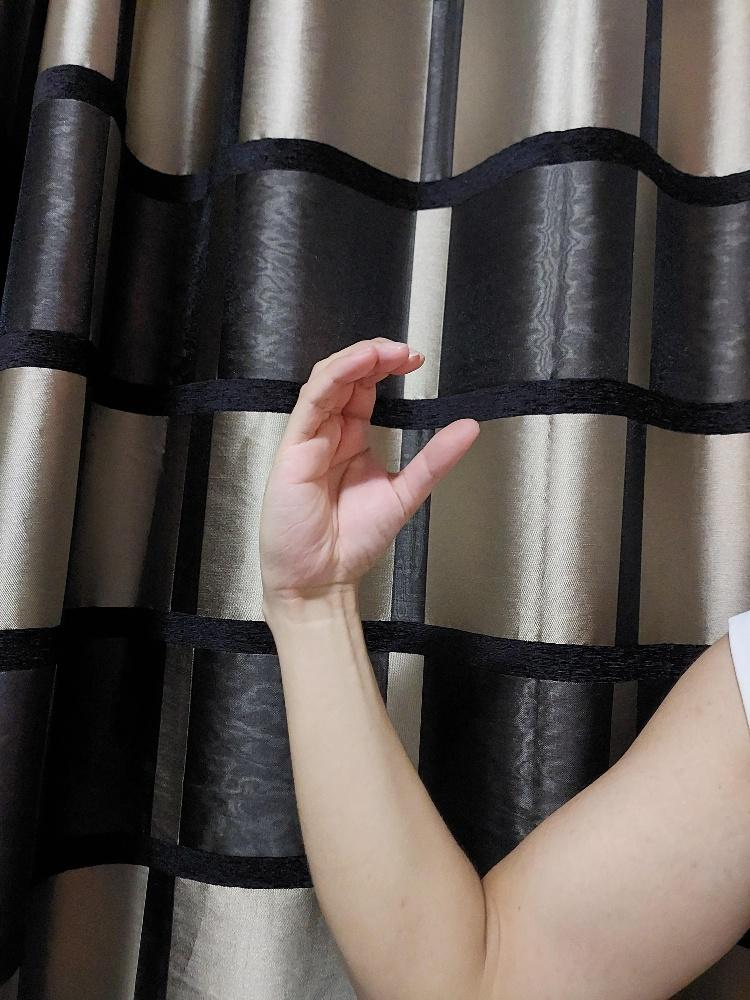c: (255, 332, 482, 599)
